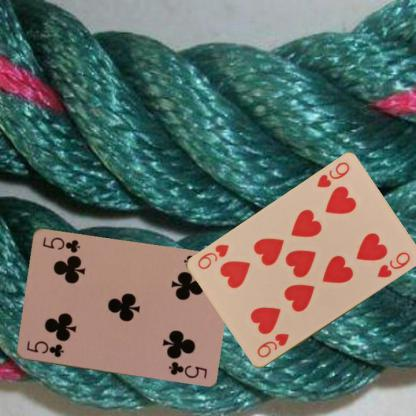5c: (24, 338, 64, 358)
9h: (254, 330, 291, 360), (314, 160, 351, 190)
